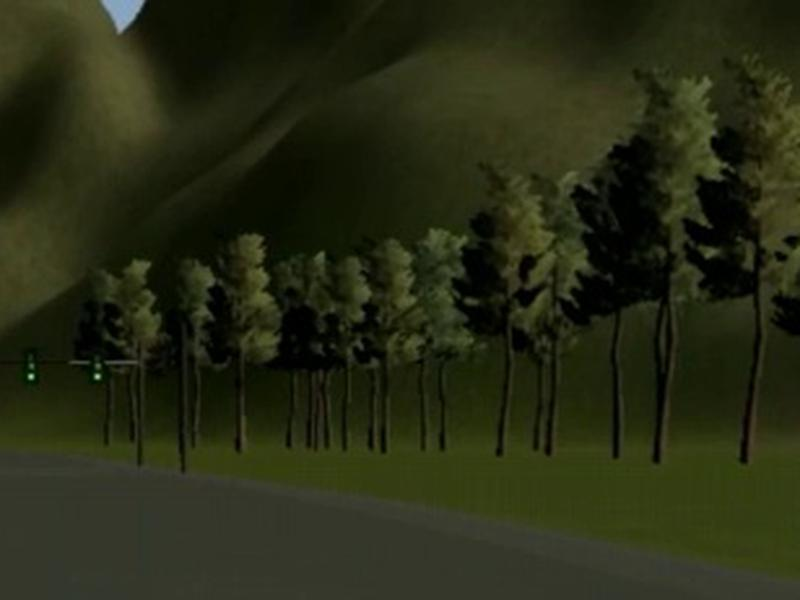Green: (24, 348, 38, 386), (91, 350, 104, 384)
